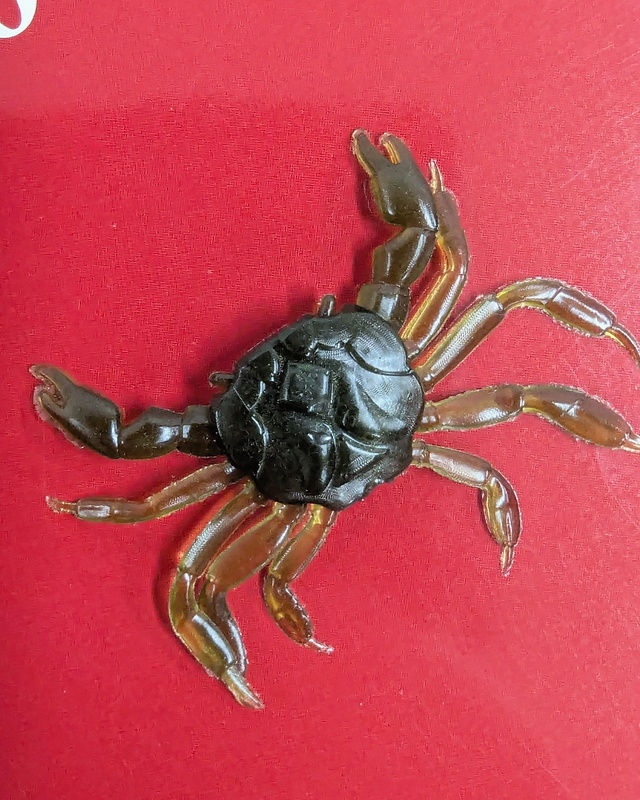crab2: (29, 127, 640, 715)
